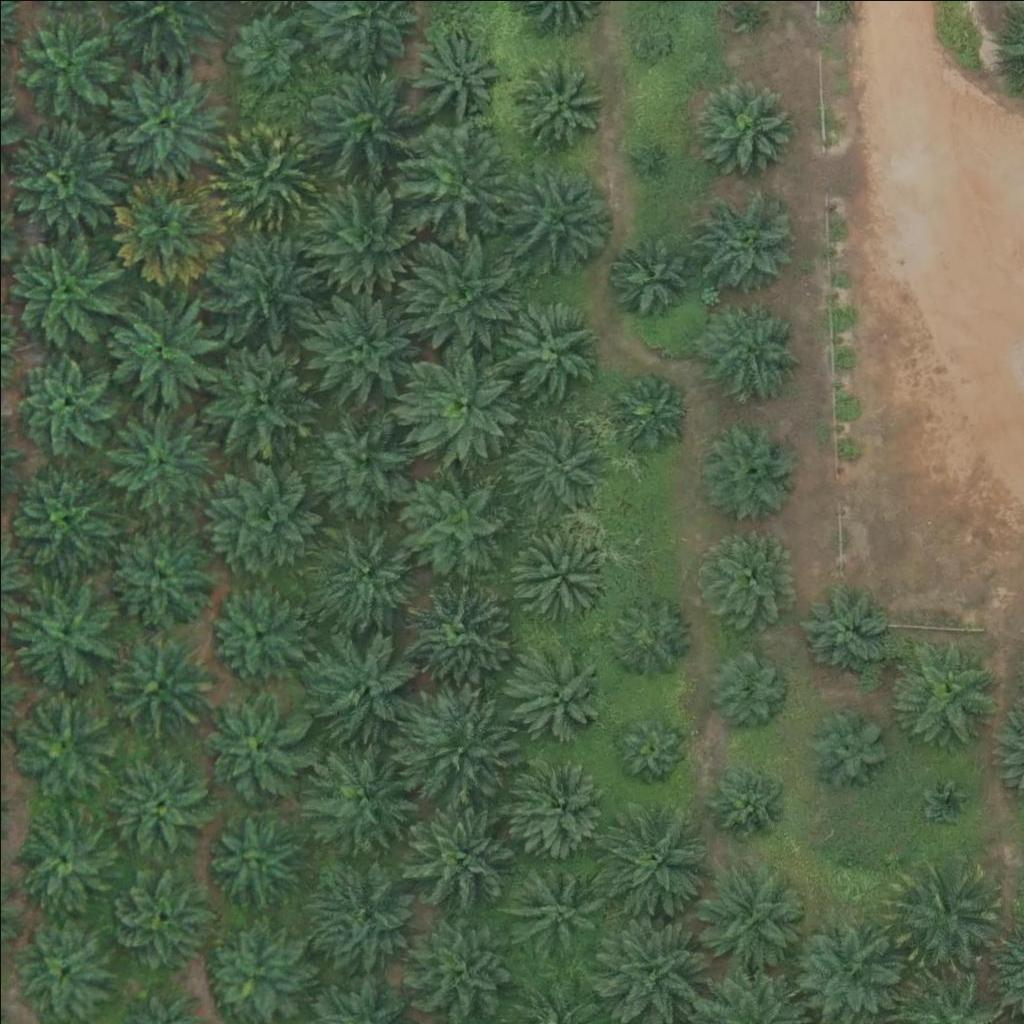Kelapa_Sawit: (597, 811, 710, 925), (502, 160, 615, 274), (306, 862, 419, 975), (400, 908, 513, 1021), (692, 861, 805, 974), (398, 690, 511, 803), (397, 573, 510, 686), (301, 742, 414, 855), (304, 628, 417, 741), (310, 517, 423, 630), (302, 402, 415, 515), (202, 462, 315, 575), (199, 348, 312, 461), (200, 230, 313, 343), (9, 575, 122, 688), (7, 2, 120, 115), (111, 169, 224, 282), (209, 120, 322, 233), (109, 68, 222, 181), (401, 796, 513, 910), (888, 635, 1000, 749), (403, 232, 515, 346), (309, 62, 421, 176), (400, 126, 512, 240), (889, 860, 1001, 973), (403, 464, 515, 577), (404, 343, 516, 456), (301, 291, 413, 404), (198, 688, 310, 801), (103, 749, 215, 862), (96, 622, 208, 735), (103, 516, 215, 629), (103, 397, 215, 510), (106, 291, 218, 404), (3, 457, 115, 570), (2, 233, 114, 346), (9, 120, 121, 233), (312, 176, 424, 289), (13, 920, 113, 1021), (13, 803, 113, 904), (109, 866, 209, 967), (206, 809, 306, 910), (702, 301, 802, 402), (510, 752, 610, 853), (504, 640, 604, 741), (509, 522, 609, 623), (204, 583, 304, 684), (14, 349, 114, 450), (694, 190, 794, 291), (696, 82, 796, 183), (502, 858, 602, 958), (692, 528, 792, 628), (697, 421, 797, 521), (499, 409, 599, 509), (497, 296, 597, 396), (12, 700, 112, 800), (795, 588, 883, 676), (802, 703, 889, 791), (703, 753, 790, 841), (706, 644, 793, 732), (604, 589, 691, 677), (412, 29, 499, 117), (512, 62, 599, 150), (606, 233, 693, 321), (611, 373, 686, 449), (229, 13, 304, 89), (613, 710, 688, 785), (921, 776, 971, 827), (824, 840, 874, 890), (630, 20, 668, 58), (630, 148, 655, 173)
